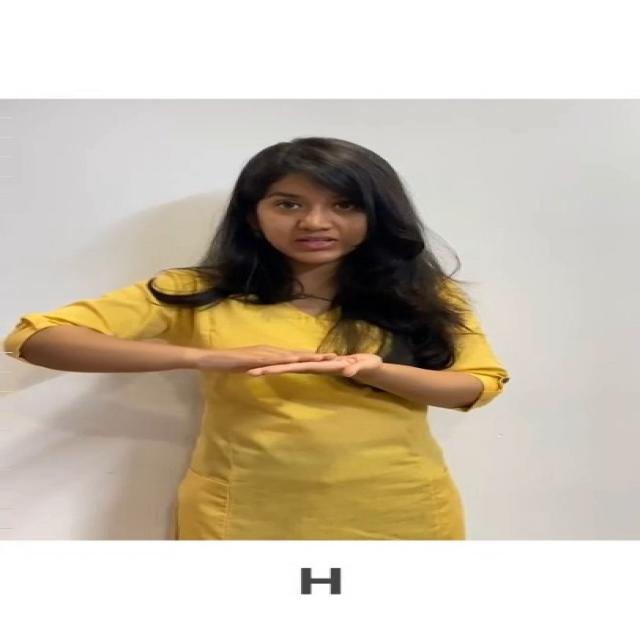H: (185, 334, 424, 402)
